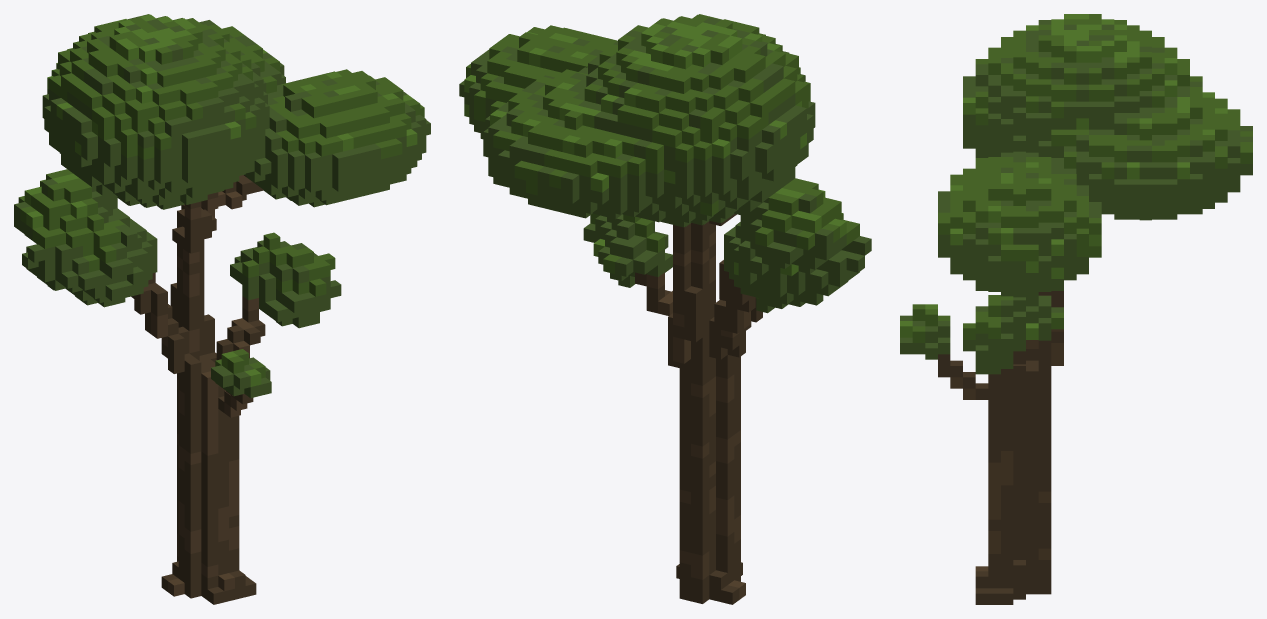
File: realTree3.vox.obj
The picture shows the model from 3 angles, left to right: view 1: azimuth 30°, elevation 25°; view 2: azimuth 150°, elevation 25°; view 3: azimuth 270°, elevation 25°; orthographic projection. The views are drawn at different scales.
Size of the model in its own units: 3.5 by 4.8 by 2.8.
Materials: 1 (1 with a texture image).
